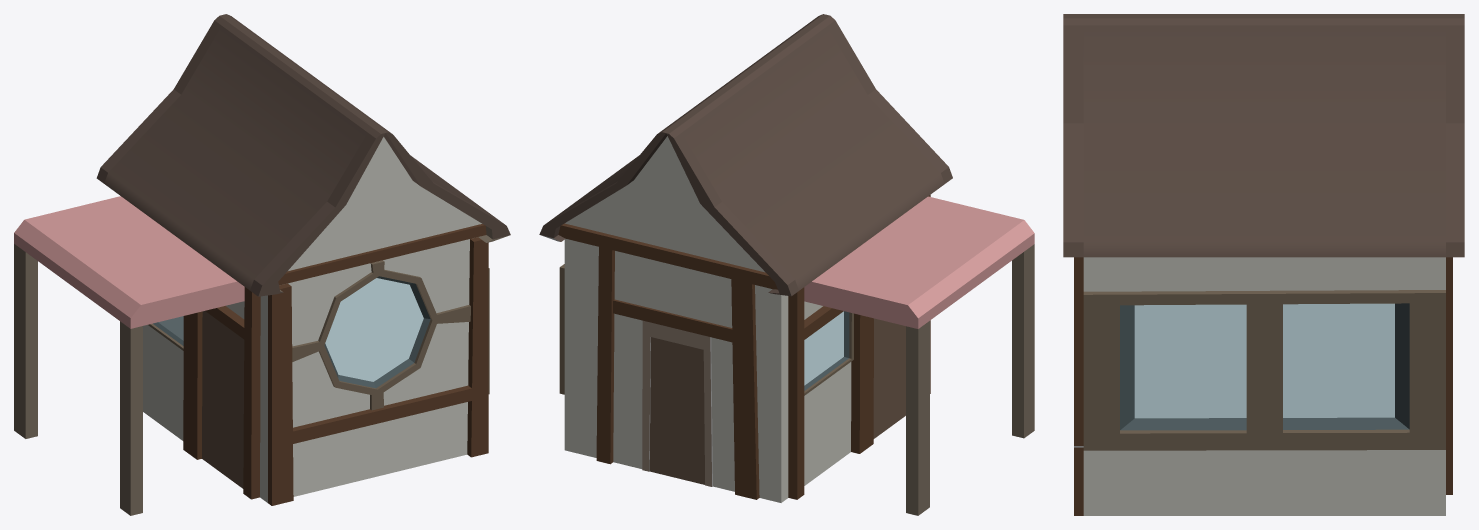
The model's file is HOUSE1.fbx.
The picture shows the model from 3 angles, left to right: view 1: azimuth 30°, elevation 25°; view 2: azimuth 150°, elevation 25°; view 3: azimuth 270°, elevation 25°; orthographic projection. The views are drawn at different scales.
Visible parts, largest first — view 1: HOSUUE; view 2: HOSUUE; view 3: HOSUUE.
Part boxes in pixels (x1=…): HOSUUE: x1=14, y1=14, x2=510, y2=515; HOSUUE: x1=539, y1=14, x2=1034, y2=515; HOSUUE: x1=1063, y1=14, x2=1464, y2=515.
Size of the model in its own units: 1.41 by 1.32 by 1.11.
